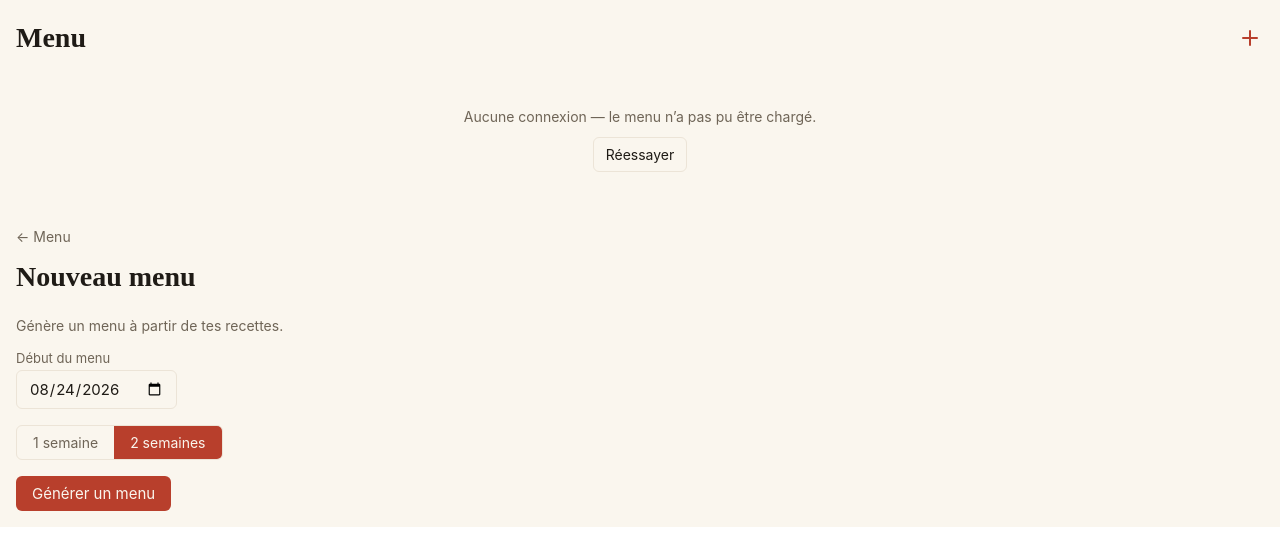
Scenario: Le constat hors ligne des deux écrans du menu › est rendu à l’identique sur l’écran des menus et sur celui de la génération
Expected: the text "Aucune connexion — le menu n’a pas pu être chargé." is shown, x1=464 y1=108 x2=816 y2=125
Click the button "Générer un menu": (94, 494) x1=16 y1=476 x2=171 y2=511
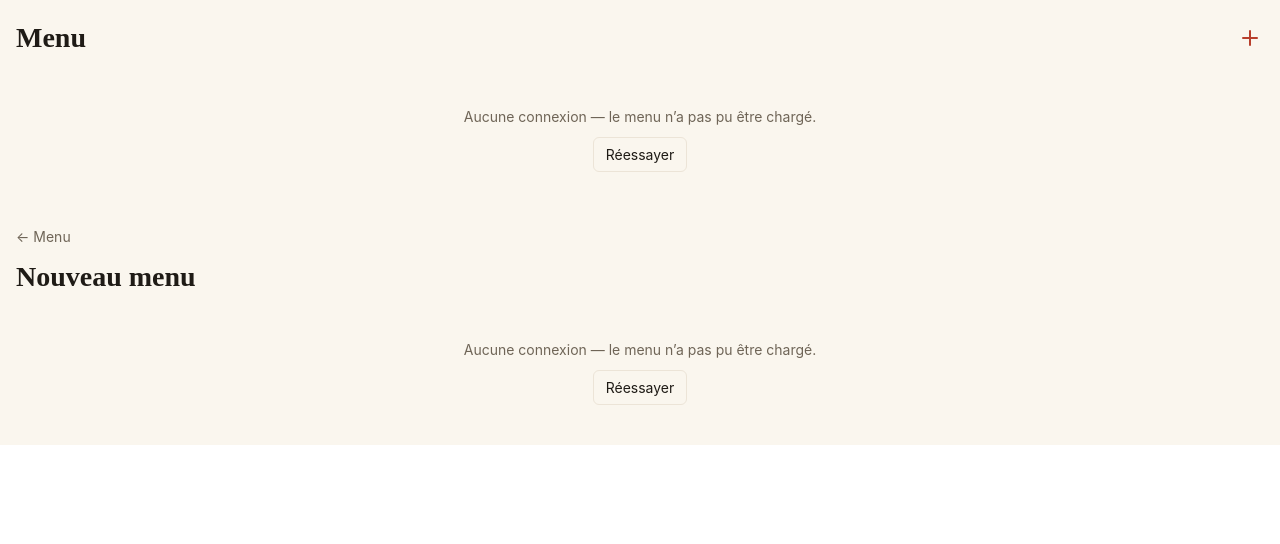
Now the 2nd text "Aucune connexion — le menu n’a pas pu être chargé." is shown, box x1=464 y1=341 x2=816 y2=358
